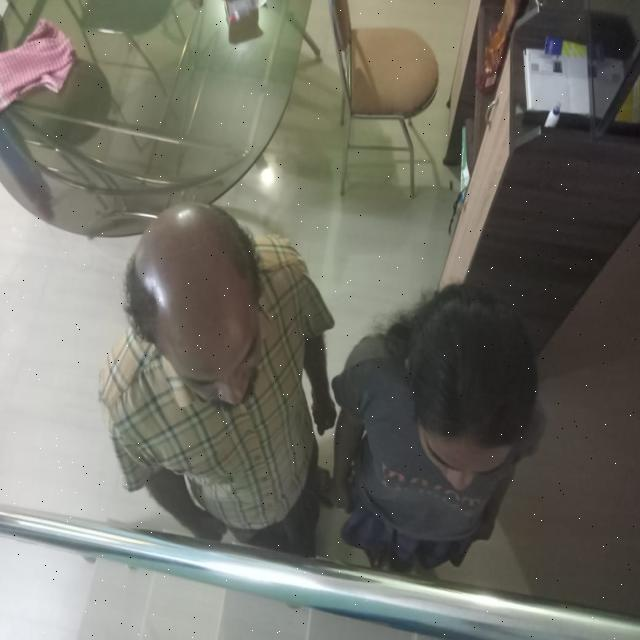humans: (106, 196, 334, 541), (325, 275, 552, 574)
